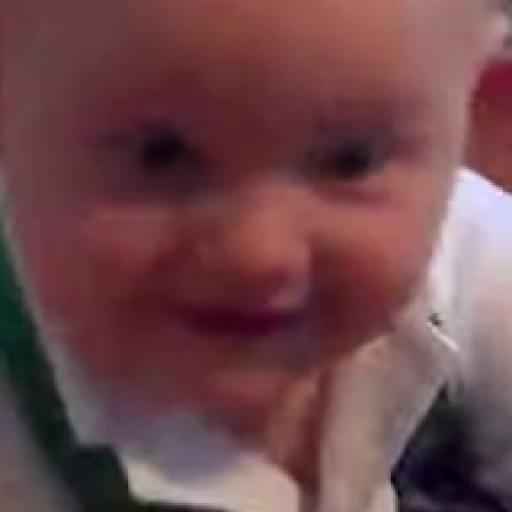Autism: (26, 14, 482, 450)
